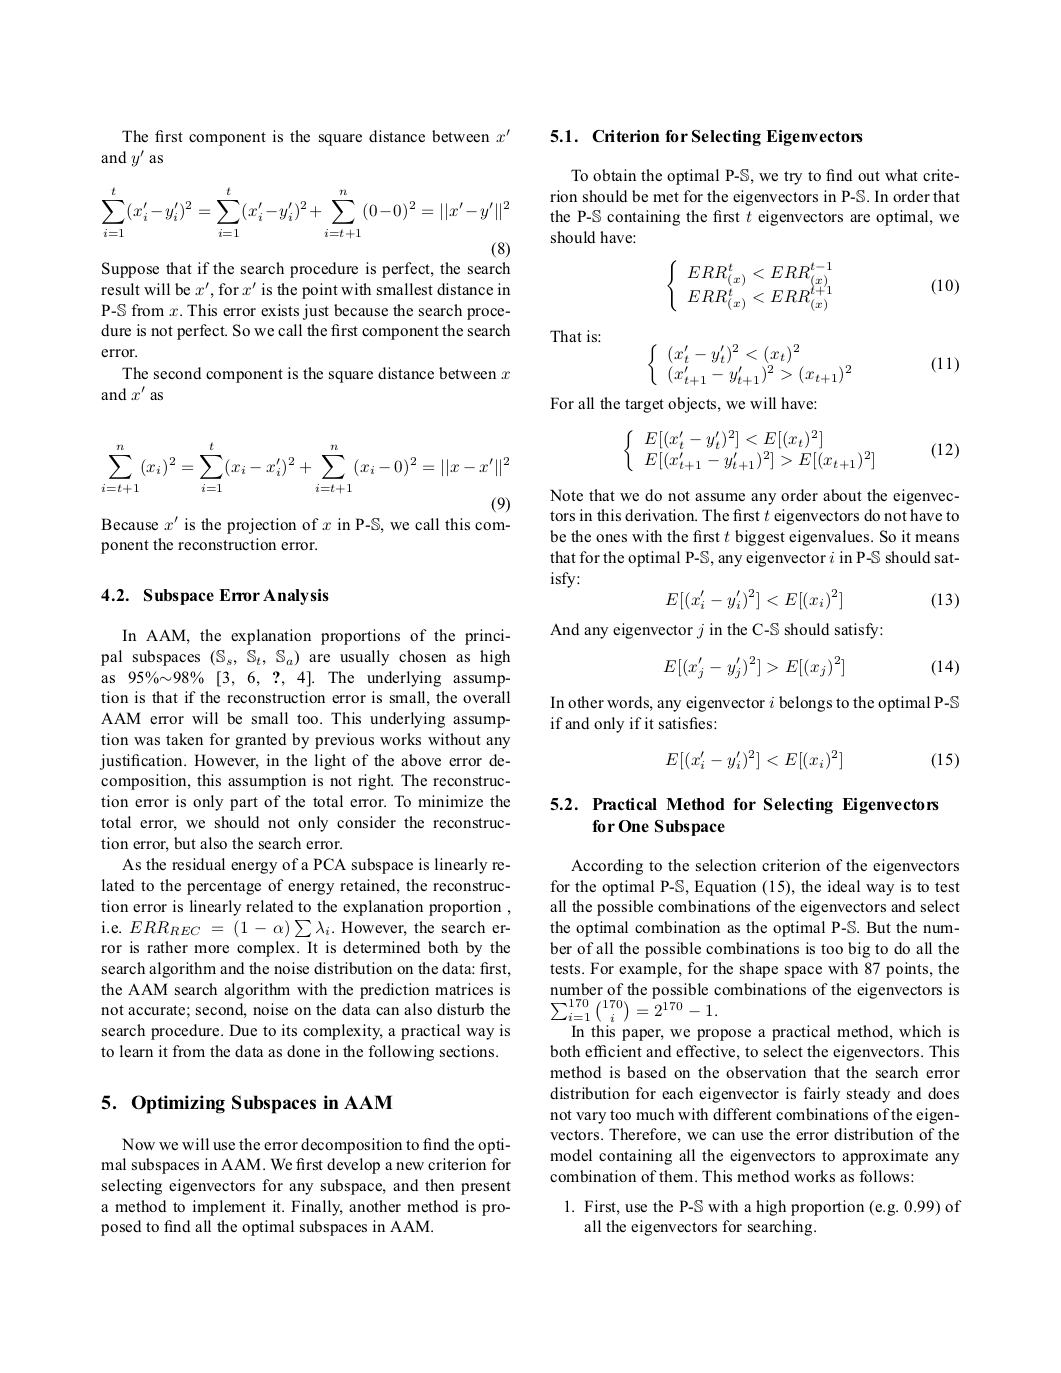formula: (103, 187, 509, 257), (101, 442, 509, 512), (549, 329, 958, 386), (549, 571, 958, 610), (666, 259, 958, 312), (624, 429, 958, 471), (663, 655, 958, 679), (665, 749, 958, 770), (551, 999, 716, 1021)
